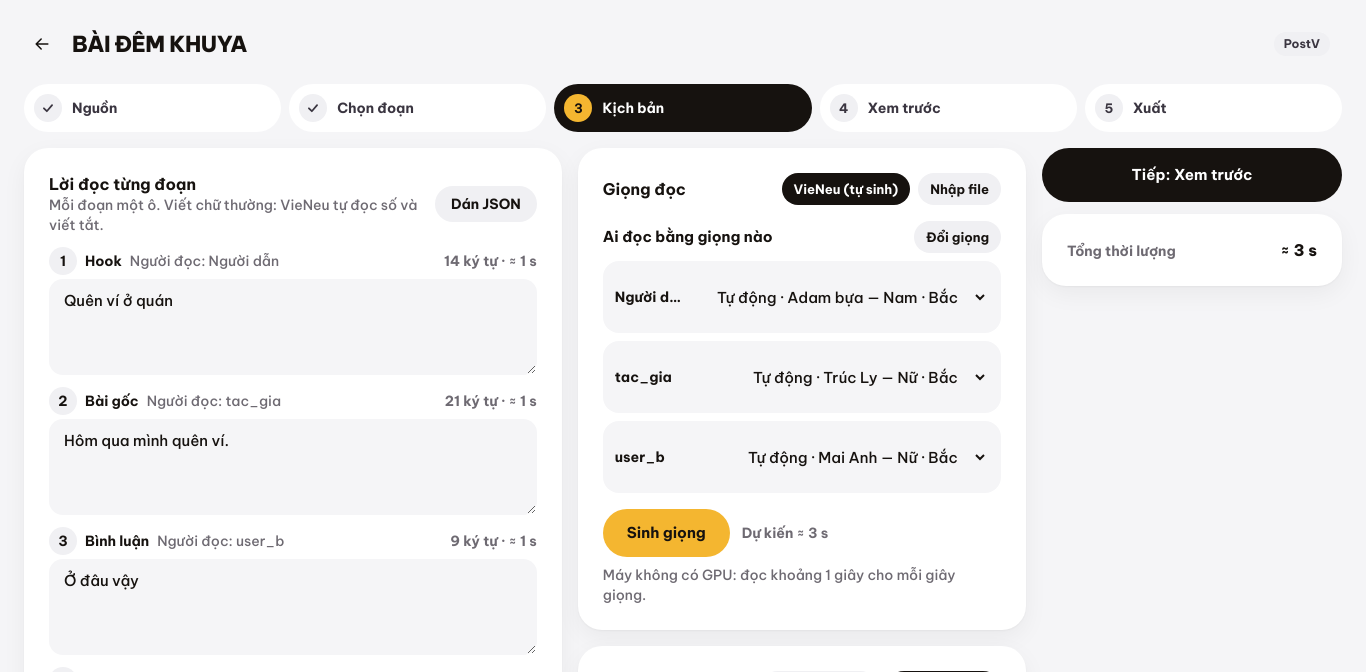
Test case: Bước 3 · lời đọc từng đoạn › saves an edited line and goes on to the preview step
Replace the text in the text box named "Lời đọc đoạn 1 (Hook)" with "Tiêu đề mới" at (293,327), box [49,279,537,375]
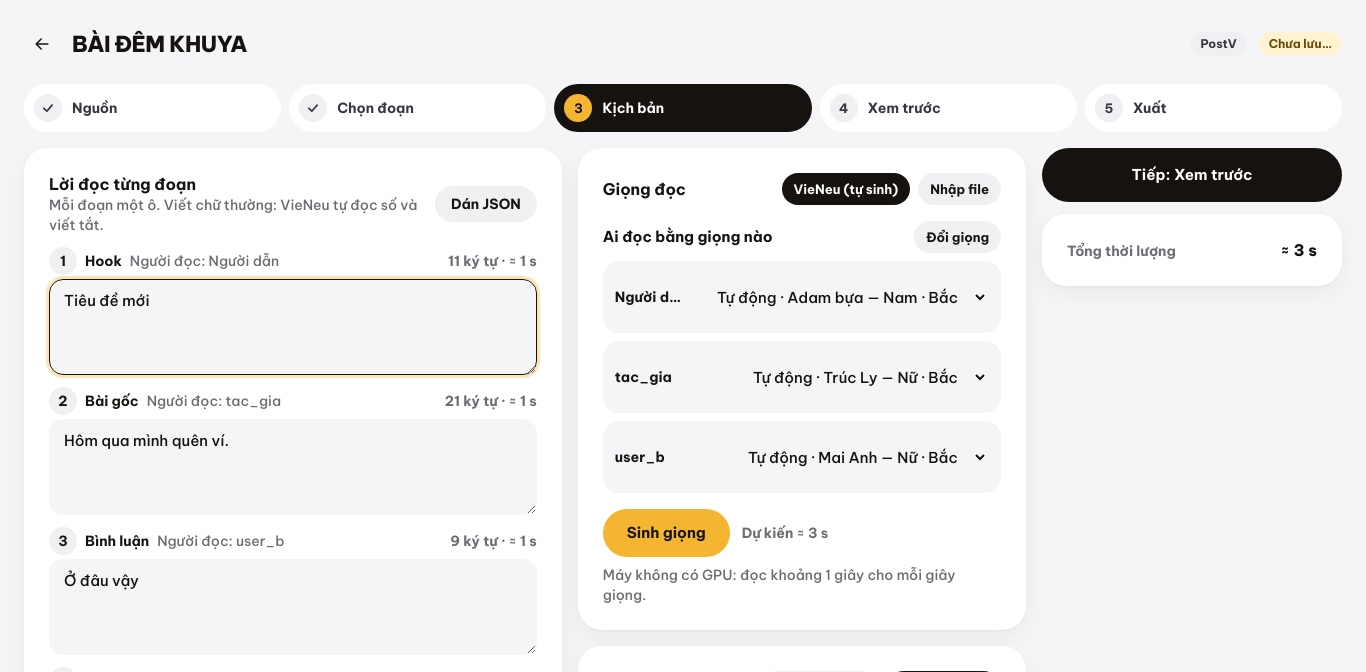
Click the button "Tiếp: Xem trước" at (1192,175), box [1042,148,1342,202]
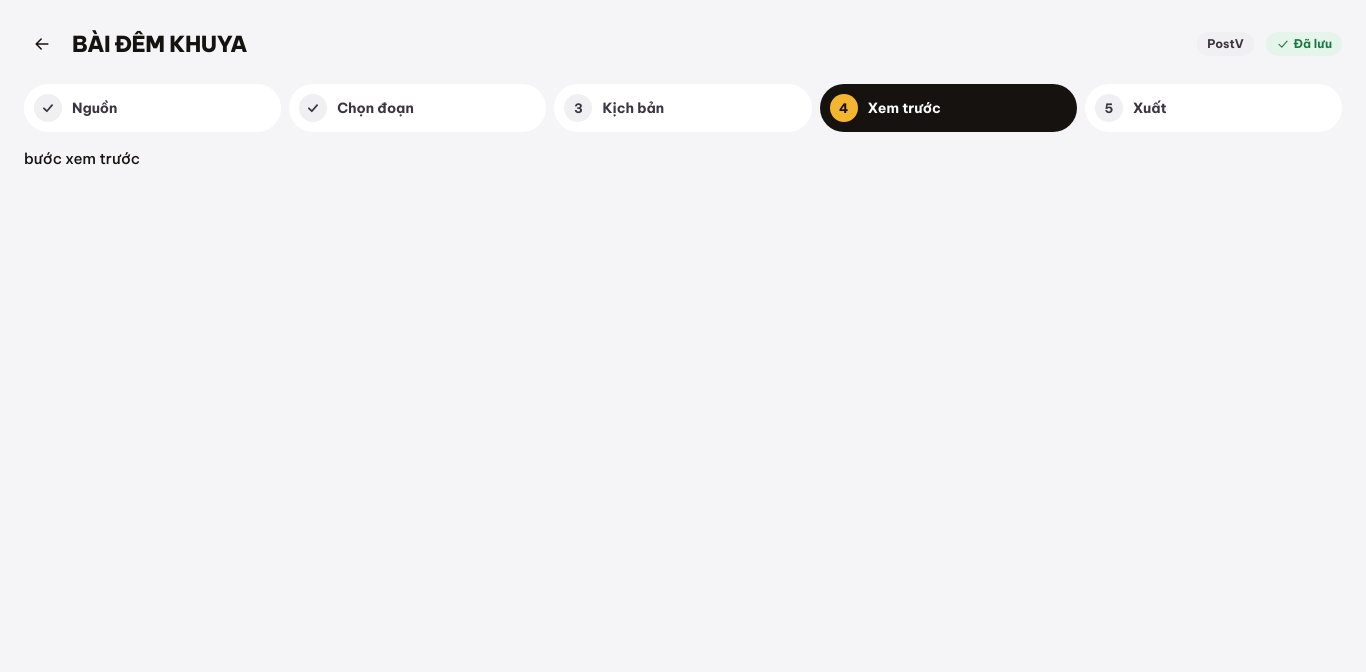
Result: the text "bước xem trước" is shown at [24,149,140,168]
